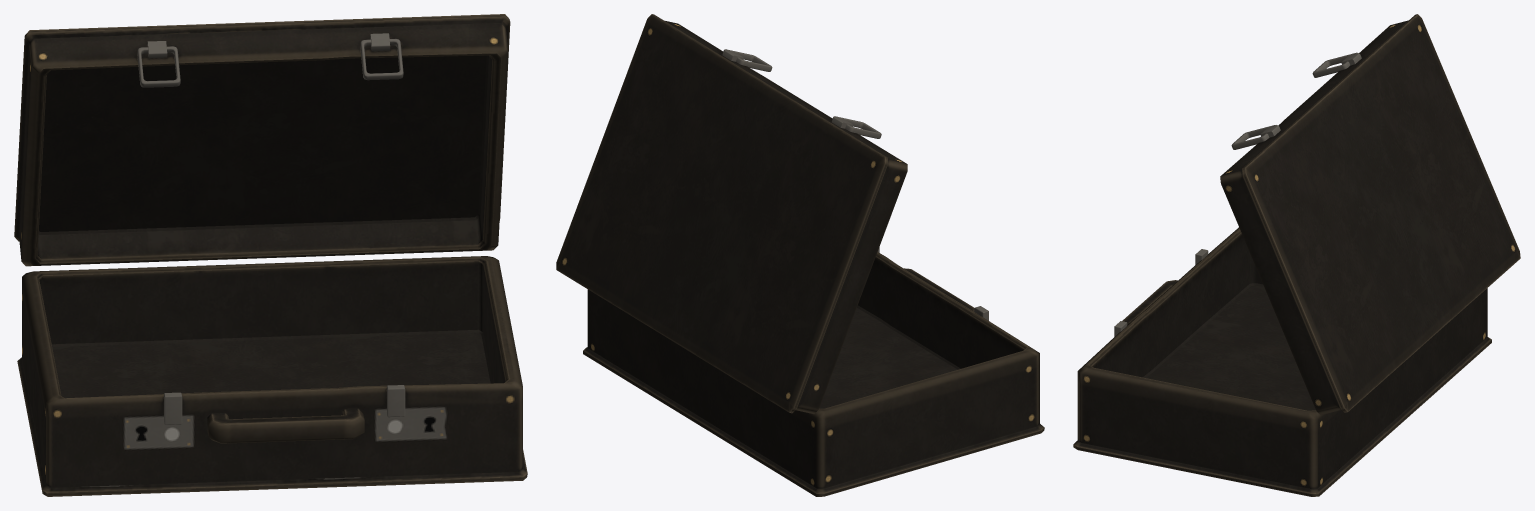
Rendered from Suitcase_5.glb.
3 views of the same model, side by side, from view 1: azimuth 30°, elevation 25°; view 2: azimuth 150°, elevation 25°; view 3: azimuth 270°, elevation 25° (orthographic). The views are drawn at different scales.
Visible parts, largest first — view 1: Object_16; view 2: Object_16; view 3: Object_16.
Boxes of the visible parts, <box> form: Object_16: <box>14,14,527,496</box>; Object_16: <box>556,14,1044,496</box>; Object_16: <box>1073,14,1520,496</box>.
Bounding box in the file's own units: 8.04 × 5.63 × 7.23.
1 material, 1 textured.
